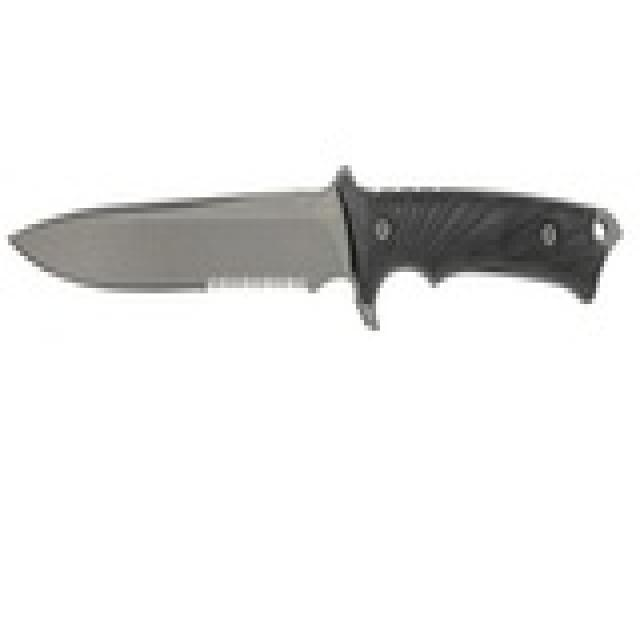Knife: (1, 155, 626, 332)
